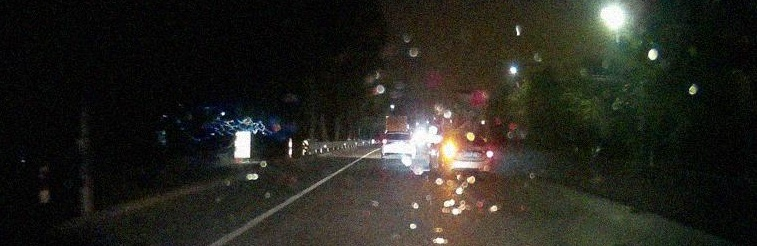L_light: (443, 145, 462, 153), (382, 139, 391, 144)
R_light: (476, 150, 493, 158), (404, 140, 413, 144)
T_light: (463, 134, 475, 136), (396, 132, 403, 133)
night-left: (440, 131, 494, 182)
night-no: (382, 131, 415, 159)
